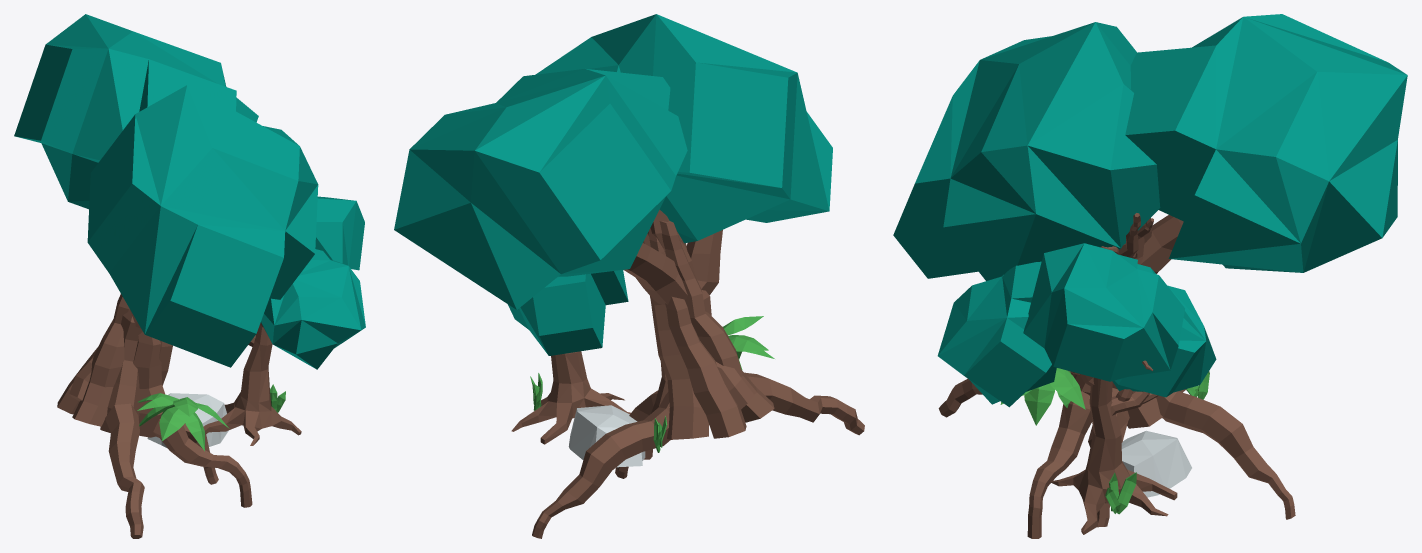
The model's file is Woods Grove Large.glb.
The picture shows the model from 3 angles, left to right: view 1: azimuth 30°, elevation 25°; view 2: azimuth 150°, elevation 25°; view 3: azimuth 270°, elevation 25°; orthographic projection. The views are drawn at different scales.
Visible parts, largest first — view 1: group547813215, group624080166, group1861304507, group716347833, group1242346347, group1889879536, group858885018, group438297063, group1356912078, group1794726675, group1622419645, group1168828220 (+2 smaller); view 2: group624080166, group547813215, group324817132, group423171390, group447429556, group1889879536, group716347833, group597624186, group1242346347, group1168828220, group737069192, group512670081 (+4 smaller); view 3: group624080166, group547813215, group858885018, group1861304507, group716347833, group447429556, group324817132, group1356912078, group1168828220, group438297063, group737069192, group588801848 (+3 smaller).
Part boxes in pixels (bbox=[...]): group547813215: bbox=[87, 85, 318, 367]; group624080166: bbox=[14, 14, 258, 209]; group1861304507: bbox=[261, 249, 365, 369]; group716347833: bbox=[203, 322, 301, 445]; group1242346347: bbox=[105, 403, 144, 538]; group1889879536: bbox=[72, 294, 129, 426]; group858885018: bbox=[315, 196, 364, 270]; group438297063: bbox=[137, 393, 229, 451]; group1356912078: bbox=[153, 419, 252, 507]; group1794726675: bbox=[133, 331, 164, 437]; group1622419645: bbox=[100, 309, 142, 433]; group1168828220: bbox=[147, 393, 228, 448]; group624080166: bbox=[394, 69, 687, 309]; group547813215: bbox=[536, 14, 832, 243]; group324817132: bbox=[508, 270, 628, 355]; group423171390: bbox=[648, 228, 746, 438]; group447429556: bbox=[532, 392, 670, 538]; group1889879536: bbox=[659, 221, 774, 422]; group716347833: bbox=[511, 351, 630, 444]; group597624186: bbox=[643, 234, 709, 439]; group1242346347: bbox=[744, 372, 864, 435]; group1168828220: bbox=[568, 405, 645, 467]; group737069192: bbox=[624, 243, 687, 305]; group512670081: bbox=[686, 230, 722, 295]; group624080166: bbox=[1125, 14, 1407, 272]; group547813215: bbox=[893, 22, 1160, 280]; group858885018: bbox=[1023, 243, 1184, 381]; group1861304507: bbox=[937, 261, 1056, 407]; group716347833: bbox=[1050, 360, 1177, 534]; group447429556: bbox=[1156, 391, 1295, 519]; group324817132: bbox=[1112, 264, 1216, 397]; group1356912078: bbox=[1027, 391, 1091, 538]; group1168828220: bbox=[1121, 430, 1191, 497]; group438297063: bbox=[1000, 368, 1085, 425]; group737069192: bbox=[1140, 215, 1183, 273]; group588801848: bbox=[1105, 472, 1136, 514].
Bounding box in the file's own units: 3.91 × 5.36 × 5.05.
